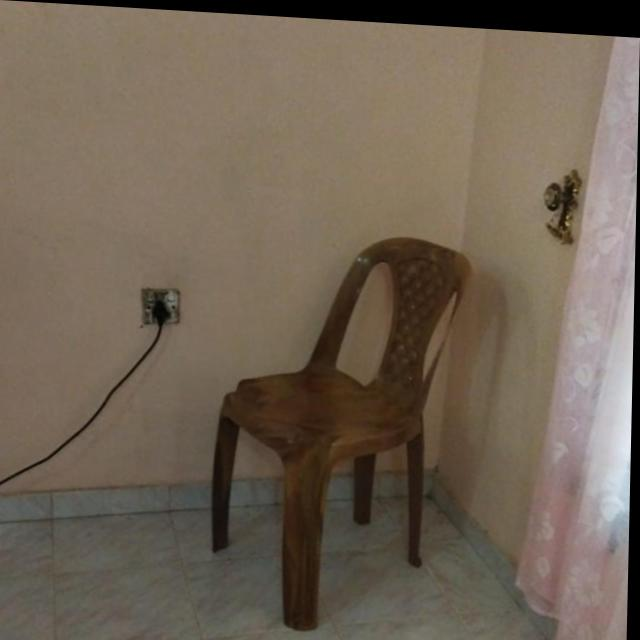Chair: (209, 222, 471, 635)
